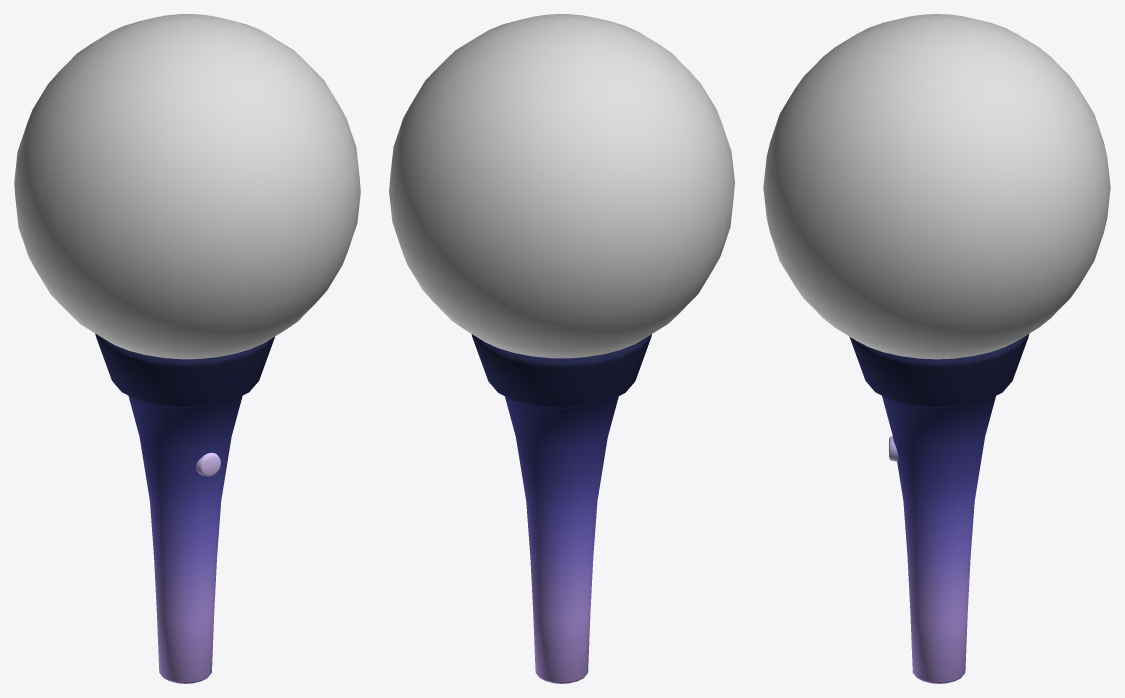
The model's file is 머스터 응원봉02.fbx.
The picture shows the model from 3 angles, left to right: view 1: azimuth 30°, elevation 25°; view 2: azimuth 150°, elevation 25°; view 3: azimuth 270°, elevation 25°; orthographic projection.
Visible parts, largest first — view 1: MUSTER_LightStick; view 2: MUSTER_LightStick; view 3: MUSTER_LightStick.
Part boxes in pixels (box(x1,y1,x2,y2)): MUSTER_LightStick: box(14, 14, 360, 683); MUSTER_LightStick: box(389, 14, 734, 683); MUSTER_LightStick: box(763, 14, 1110, 683).
Size of the model in its own units: 3378 by 6928 by 3378.
3 materials, 1 textured.
